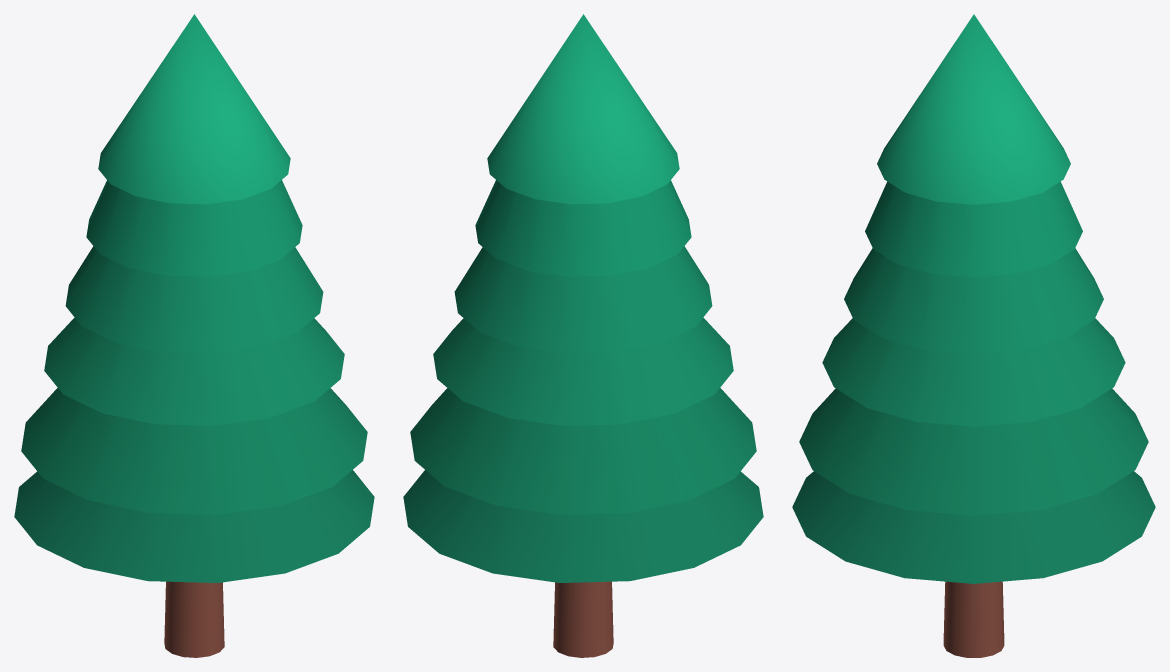
The model's file is Spruce_Cold_Turquoise_1.fbx.
3 views of the same model, side by side, from view 1: azimuth 30°, elevation 25°; view 2: azimuth 150°, elevation 25°; view 3: azimuth 270°, elevation 25° (orthographic).
Visible parts, largest first — view 1: Cylinder.115, Cylinder.114, Cylinder.117, Cylinder.116, Cylinder.119, Cylinder.118, Cylinder.113; view 2: Cylinder.115, Cylinder.114, Cylinder.117, Cylinder.116, Cylinder.119, Cylinder.118, Cylinder.113; view 3: Cylinder.115, Cylinder.114, Cylinder.117, Cylinder.116, Cylinder.119, Cylinder.118, Cylinder.113.
Boxes of the visible parts, left/top/right/bottom form: Cylinder.115: left=21, top=388, right=367, bottom=514; Cylinder.114: left=14, top=470, right=374, bottom=582; Cylinder.117: left=44, top=317, right=344, bottom=425; Cylinder.116: left=98, top=14, right=290, bottom=204; Cylinder.119: left=65, top=246, right=323, bottom=353; Cylinder.118: left=86, top=180, right=302, bottom=276; Cylinder.113: left=164, top=581, right=224, bottom=657; Cylinder.115: left=410, top=388, right=756, bottom=514; Cylinder.114: left=403, top=470, right=763, bottom=582; Cylinder.117: left=433, top=317, right=733, bottom=425; Cylinder.116: left=487, top=14, right=679, bottom=204; Cylinder.119: left=454, top=246, right=712, bottom=353; Cylinder.118: left=475, top=180, right=691, bottom=276; Cylinder.113: left=553, top=581, right=613, bottom=657; Cylinder.115: left=799, top=388, right=1148, bottom=515; Cylinder.114: left=792, top=471, right=1155, bottom=583; Cylinder.117: left=822, top=318, right=1125, bottom=426; Cylinder.116: left=877, top=14, right=1070, bottom=204; Cylinder.119: left=844, top=248, right=1103, bottom=353; Cylinder.118: left=865, top=181, right=1082, bottom=277; Cylinder.113: left=943, top=581, right=1004, bottom=657.
Size of the model in its own units: 276 by 529 by 276.
